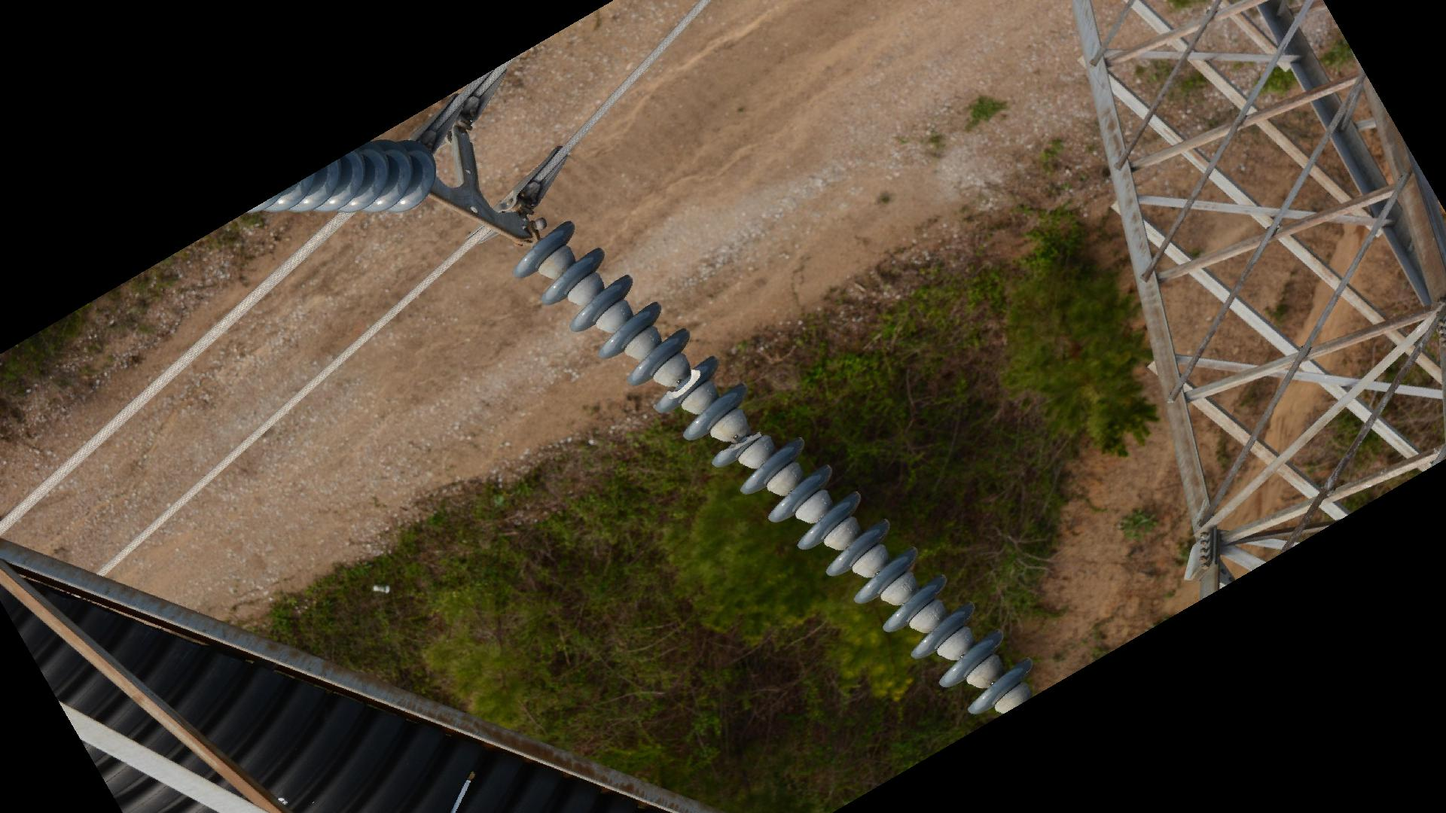insulator: (510, 216, 1037, 719), (225, 130, 441, 222)
insulator_breakage: (664, 365, 704, 403), (715, 425, 764, 455)
